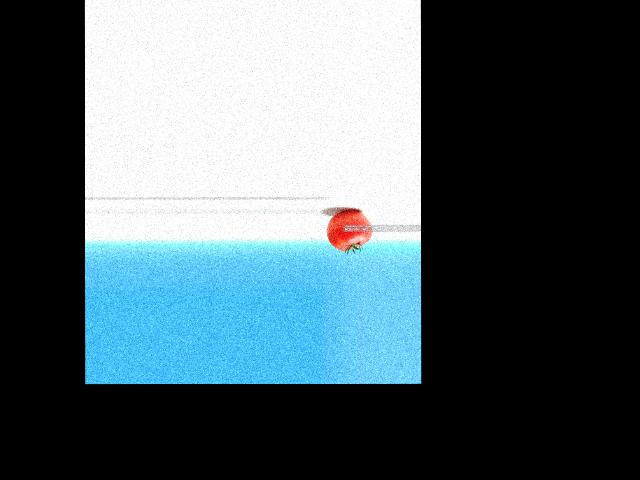tomato: (327, 211, 372, 250)
